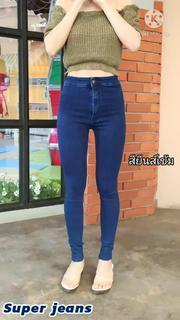Tshirt: (40, 4, 147, 77)
pants: (58, 74, 126, 265), (46, 134, 49, 134)
